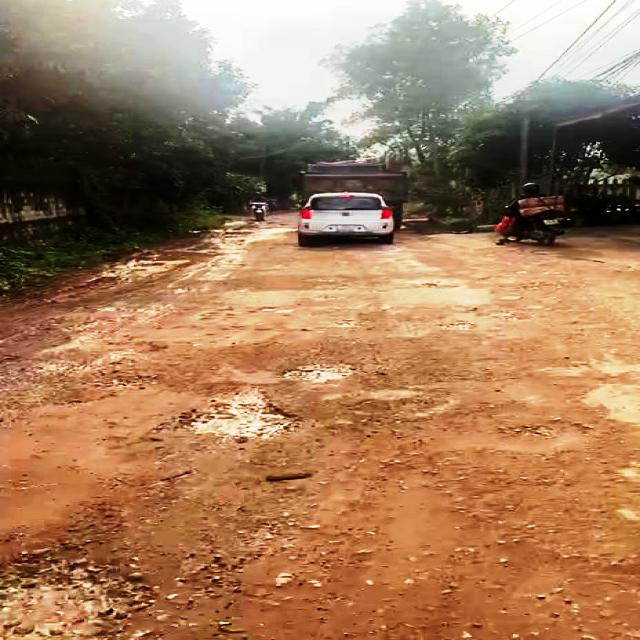pothole: (0, 523, 178, 640), (407, 399, 610, 458), (44, 339, 168, 406), (172, 386, 298, 438), (283, 360, 360, 383), (440, 321, 476, 331)
